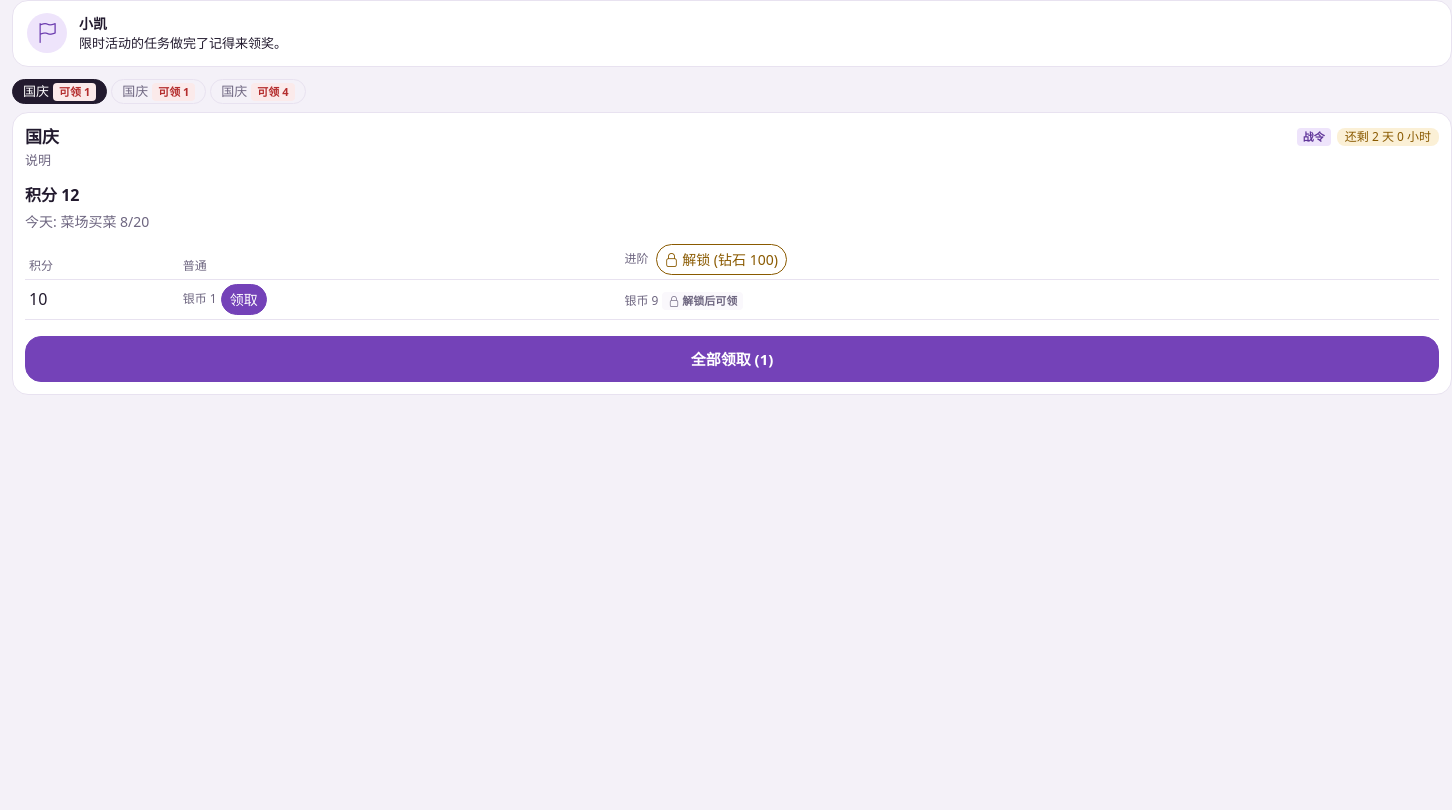
问题记录 226：活动条 + 详情 › 活动条是一排筛选胶囊，写名字和可领数；类型、剩余时间写在详情卡片头上（界面改版 P7）；详情只显示选中的一个；点击切换
This screenshot has width=1452, height=810.
Expected: the element with test id "act-tab-2" is shown, [12,78,306,104]
Expected: the text with class "dt-tag" reads "可领 4", [257,84,289,98]
Step 1. Click the tab with test id "act-tab-2" → (258, 91), box [210,78,306,104]
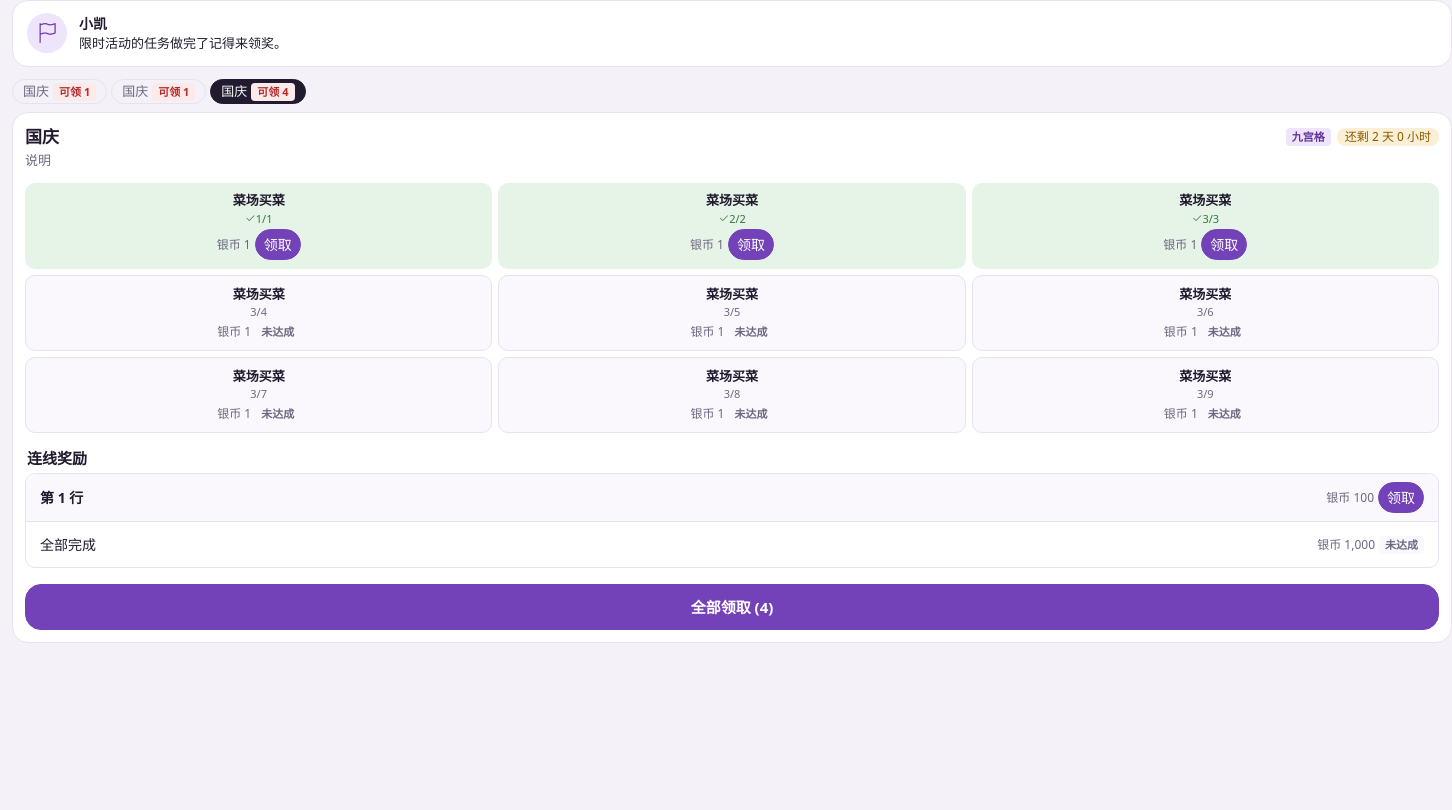
Expected: the element with class "dt-act-detail-head" shows "还剩 2 天", [1345,128,1431,145]
Expected: the element with class "dt-act-detail-head" shows "九宫格", [1292,129,1325,144]
